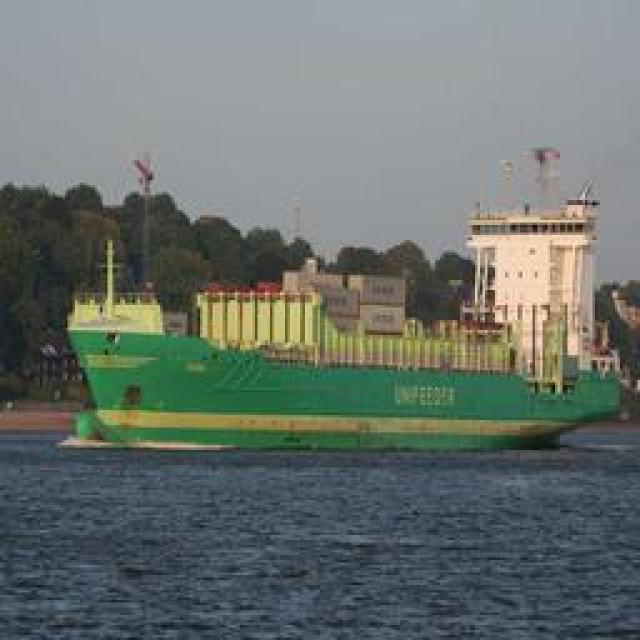CIV_Ship: (68, 360, 610, 452)
